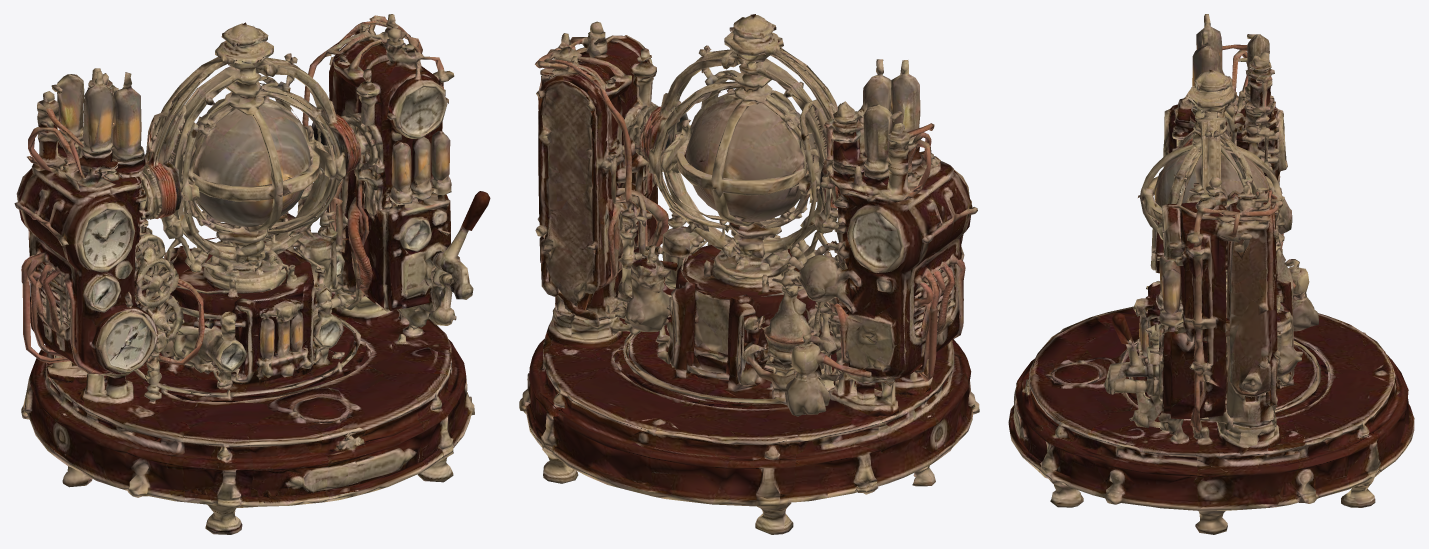
The picture shows the model from 3 angles, left to right: view 1: azimuth 30°, elevation 25°; view 2: azimuth 150°, elevation 25°; view 3: azimuth 270°, elevation 25°; orthographic projection. The views are drawn at different scales.
Size of the model in its own units: 1.89 by 1.9 by 1.82.
Materials: 1 (1 with a texture image).
